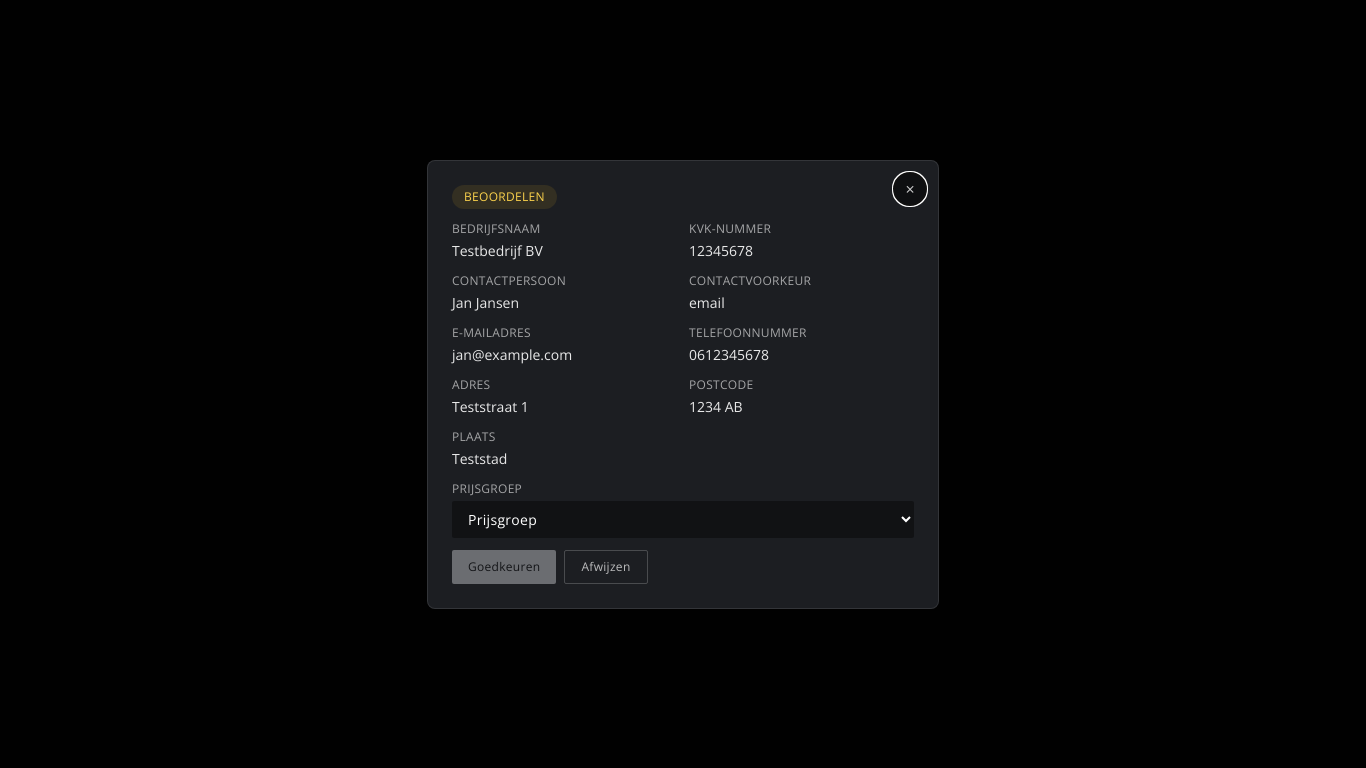
Scenario: KlantModal › does not log when updateDoc fails
Click the button with test id "klant-modal-afwijzen": point(606, 566) 564,550 -> 648,584
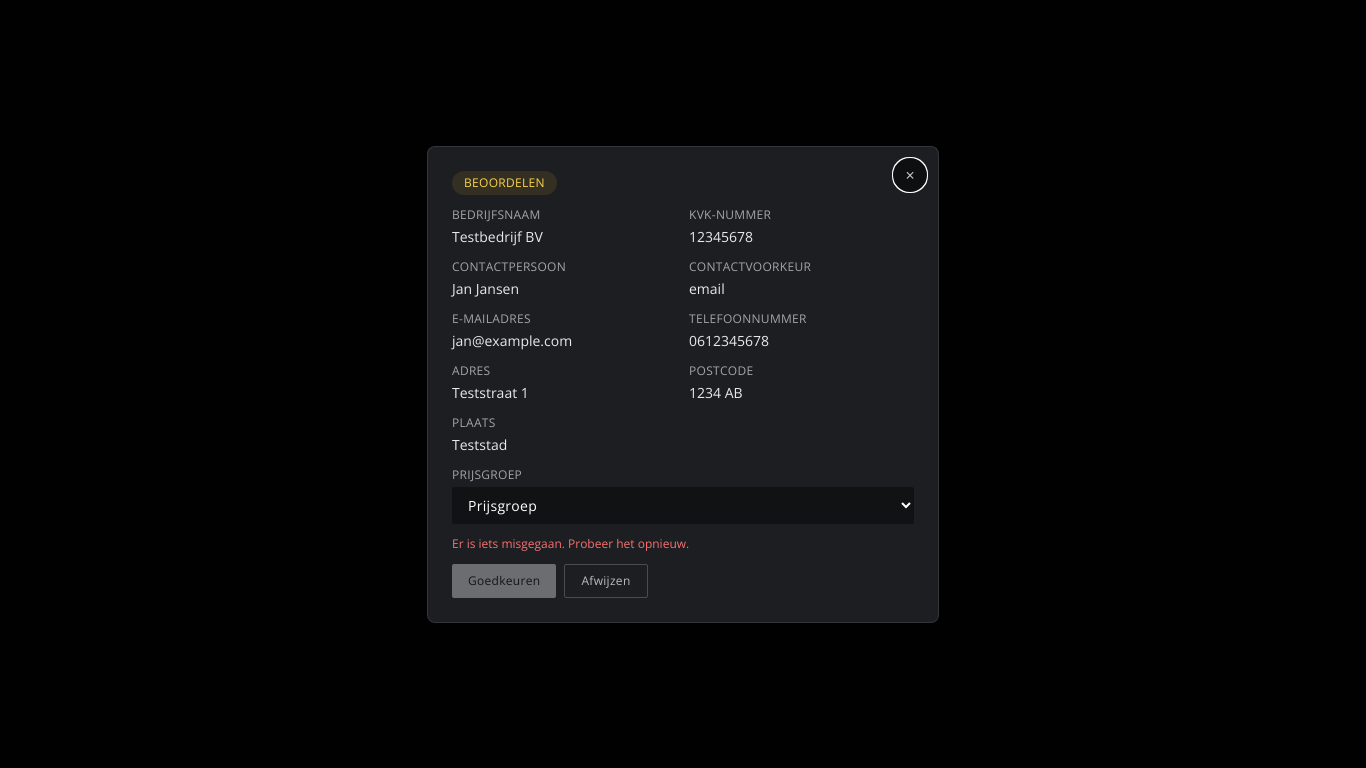
Check: the text "Er is iets misgegaan. Probeer het opnieuw." is shown, box 452,534 -> 689,552
